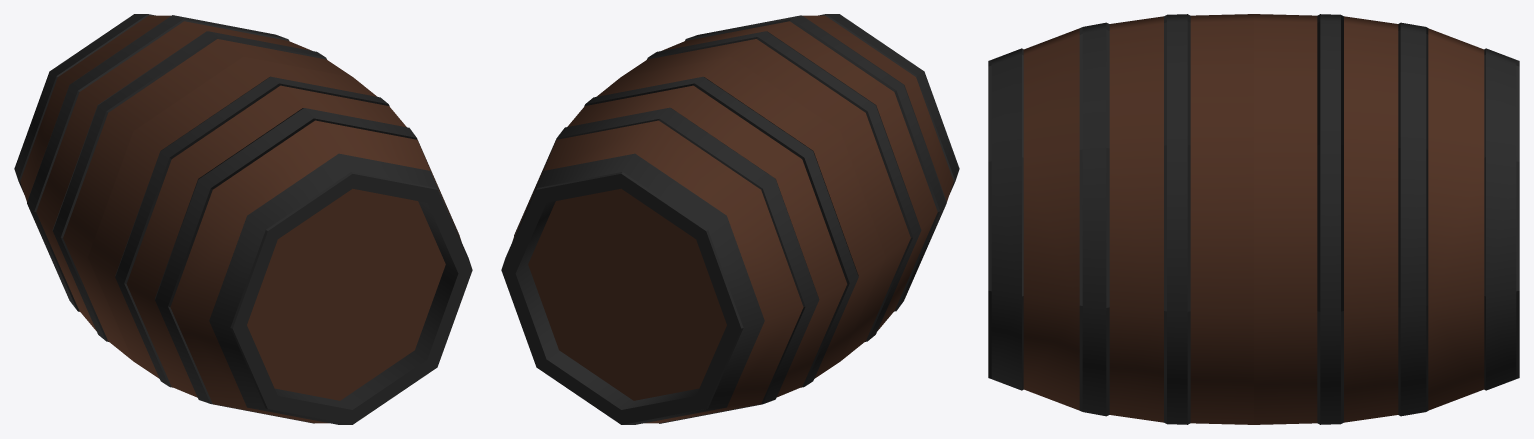
Rendered from Barrel.fbx.
The picture shows the model from 3 angles, left to right: view 1: azimuth 30°, elevation 25°; view 2: azimuth 150°, elevation 25°; view 3: azimuth 270°, elevation 25°; orthographic projection. The views are drawn at different scales.
Visible parts, largest first — view 1: Barrel:Mesh; view 2: Barrel:Mesh; view 3: Barrel:Mesh.
Boxes of the visible parts, x1,y1,x2,y2 form: Barrel:Mesh: [14, 14, 472, 424]; Barrel:Mesh: [501, 14, 959, 424]; Barrel:Mesh: [988, 14, 1519, 424].
Size of the model in its own units: 47.35 by 47.35 by 57.52.
